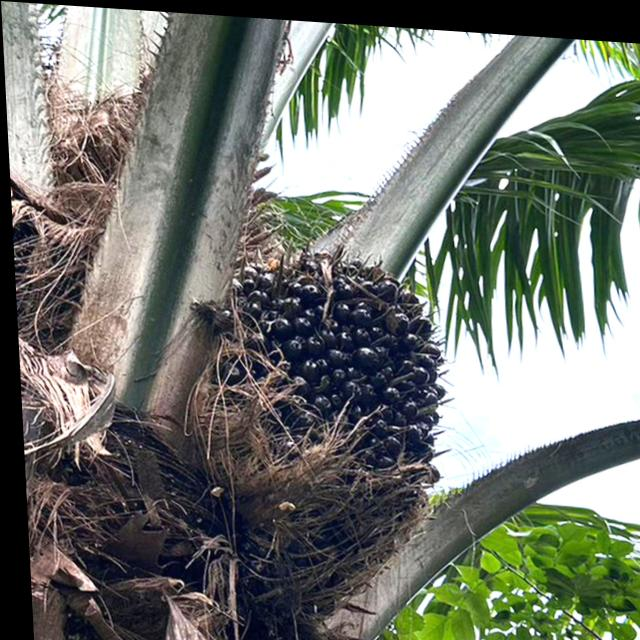almost: (183, 223, 464, 549)
